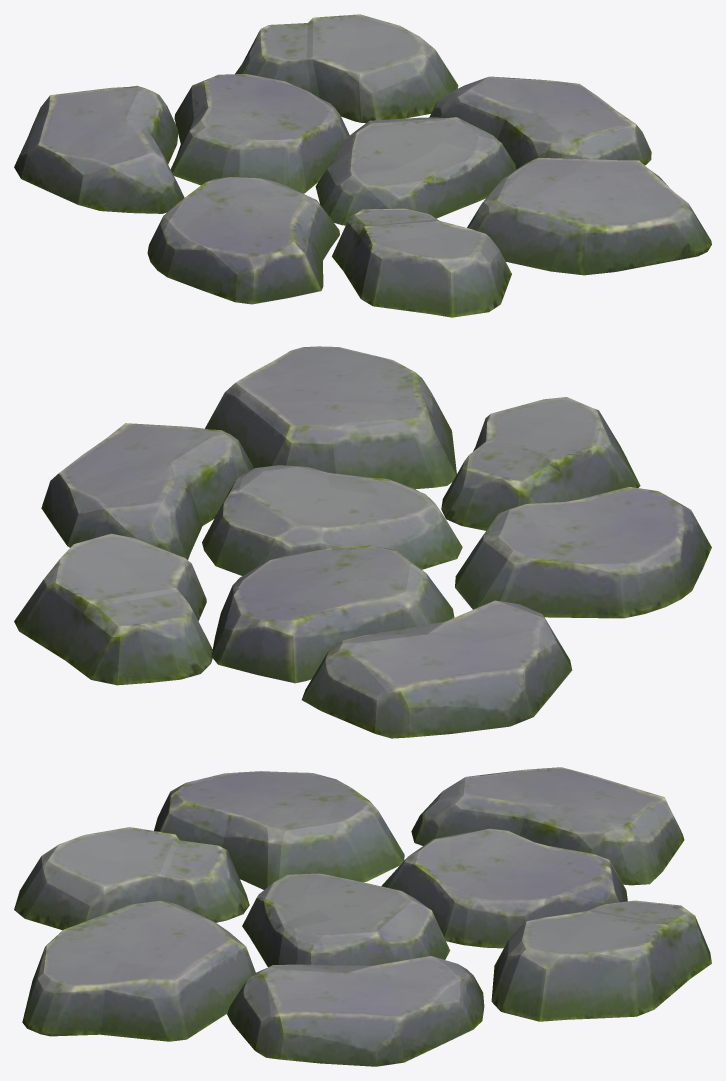
File: RockPath_Round_Small_3.glb
The picture shows the model from 3 angles, top to bottom: view 1: azimuth 30°, elevation 25°; view 2: azimuth 150°, elevation 25°; view 3: azimuth 270°, elevation 25°; orthographic projection. The views are drawn at different scales.
Size of the model in its own units: 1.18 by 0.1093 by 1.29.
Materials: 1 (1 with a texture image).
